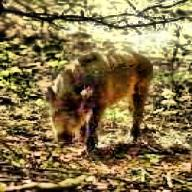boar: (44, 48, 154, 152)
